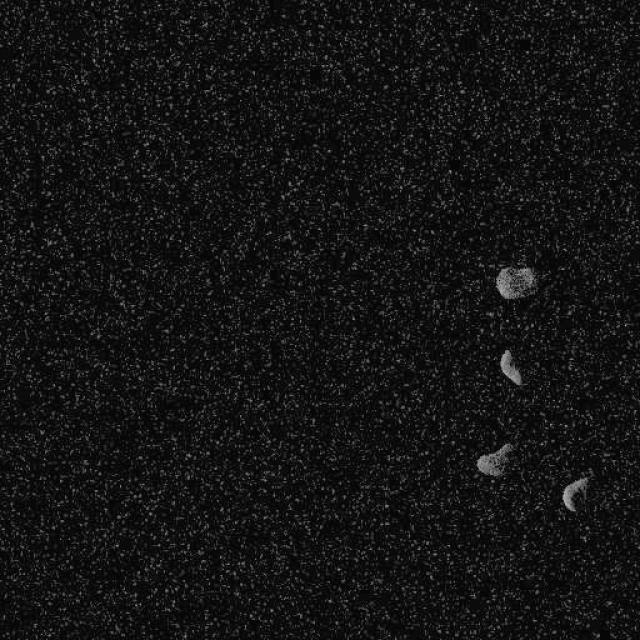D2: (494, 262, 536, 300), (475, 442, 514, 478), (560, 475, 589, 513), (498, 348, 524, 387)
